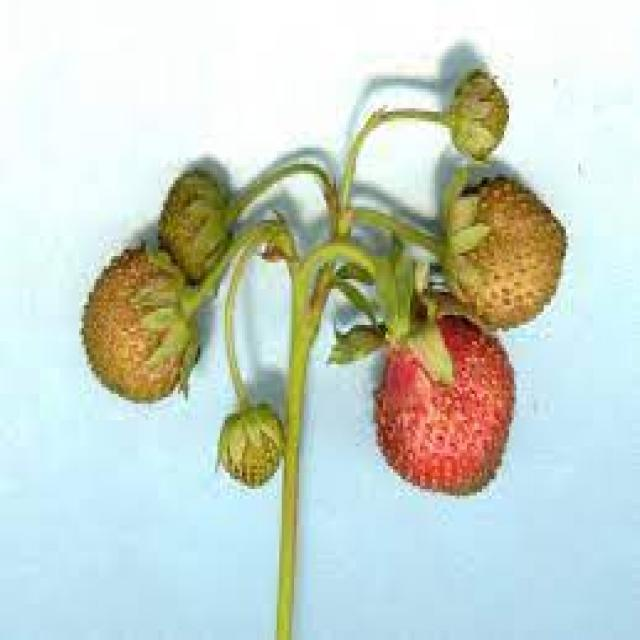Podredumbre de cuero: (91, 256, 190, 428), (445, 200, 558, 316), (437, 68, 509, 168), (206, 399, 292, 482), (157, 176, 225, 268)
